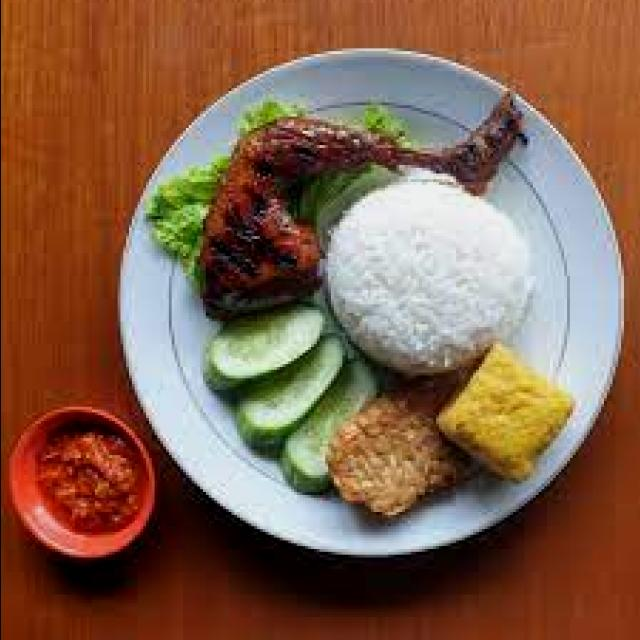ayam bakar: (196, 108, 518, 319)
nasi: (327, 174, 535, 381)
tahu goreng: (438, 344, 575, 481)
tempe goreng: (327, 378, 472, 518)
